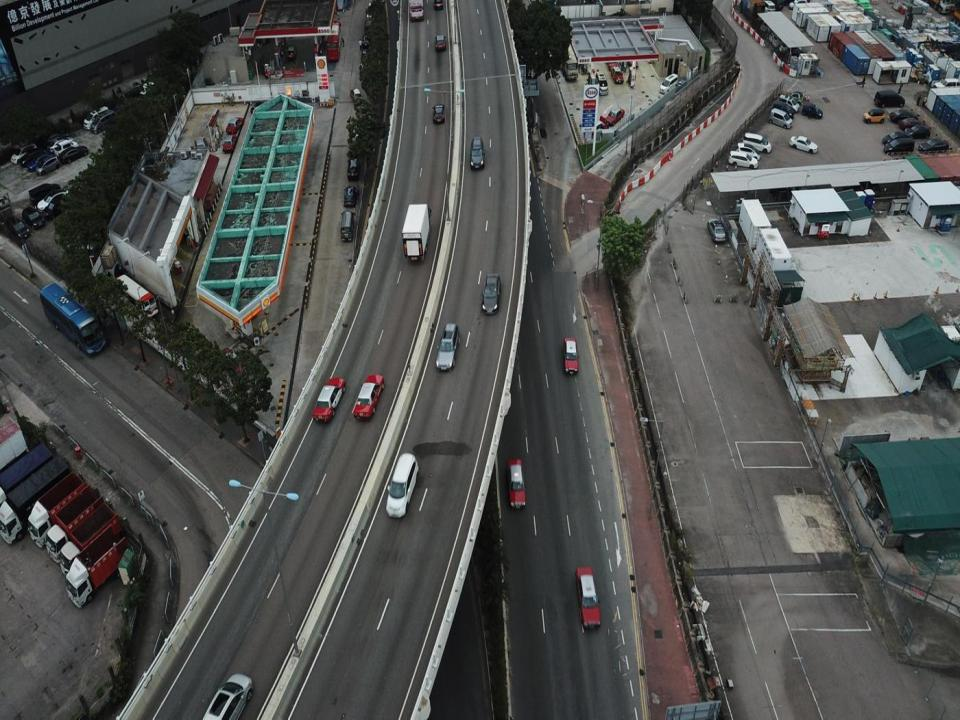bus: (38, 281, 106, 358), (114, 273, 158, 320)
car: (200, 672, 252, 719), (384, 452, 419, 519), (574, 564, 601, 630), (310, 375, 346, 422), (352, 371, 384, 421), (435, 322, 460, 374), (506, 457, 526, 510), (480, 272, 501, 314), (28, 182, 61, 206), (561, 336, 579, 375), (44, 192, 69, 220), (83, 106, 109, 132), (37, 192, 69, 213), (11, 142, 38, 166), (886, 135, 916, 156), (746, 130, 772, 154), (730, 148, 759, 169), (90, 109, 115, 133), (790, 134, 819, 154), (469, 135, 486, 169), (6, 214, 30, 238), (874, 90, 904, 109), (58, 145, 88, 164), (36, 154, 60, 176), (20, 146, 46, 166), (918, 137, 948, 154), (768, 108, 793, 128), (21, 206, 43, 228), (737, 140, 761, 160), (707, 217, 725, 243), (801, 100, 824, 120), (780, 93, 801, 114), (27, 152, 50, 171), (773, 98, 793, 119), (54, 141, 78, 158), (660, 74, 680, 94), (606, 103, 624, 125), (864, 107, 886, 125), (890, 109, 918, 123), (431, 100, 447, 124), (342, 184, 358, 207), (905, 123, 929, 138), (221, 134, 238, 154), (432, 31, 447, 53), (883, 131, 907, 144), (595, 72, 608, 95), (227, 116, 244, 133), (346, 156, 359, 178), (900, 118, 922, 129), (611, 65, 624, 83), (349, 86, 362, 104), (268, 68, 285, 78), (261, 62, 273, 75), (360, 34, 370, 48), (364, 17, 373, 32), (360, 49, 370, 62), (287, 44, 295, 59)
truck: (0, 454, 70, 547), (65, 526, 125, 608), (24, 472, 87, 550), (60, 501, 117, 584), (46, 483, 101, 562), (0, 441, 50, 520), (399, 199, 434, 260), (553, 52, 578, 82)
van: (340, 207, 356, 243)
